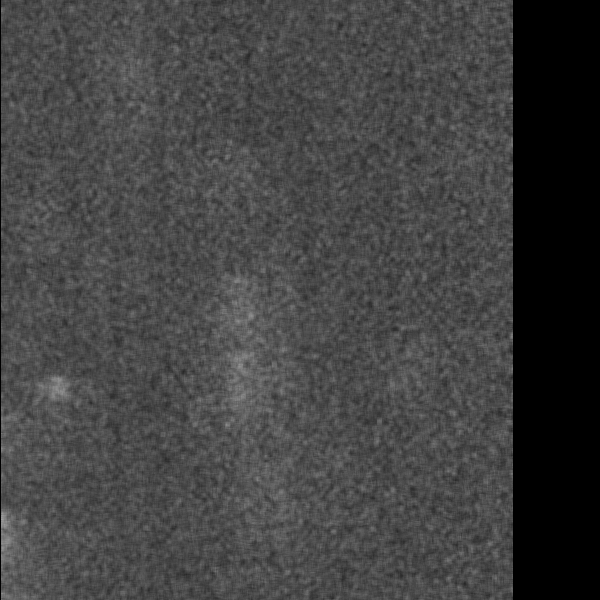spark: (181, 347, 283, 403), (46, 370, 73, 447)
